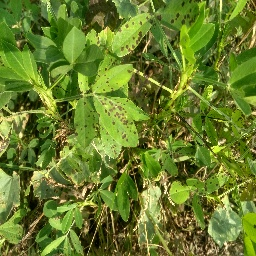GroundNut_Leaf: (90, 94, 140, 148), (154, 1, 192, 54), (112, 13, 152, 59), (3, 41, 36, 87), (91, 63, 135, 94), (230, 57, 256, 109), (211, 204, 241, 247), (63, 28, 86, 66), (1, 172, 20, 214), (75, 95, 88, 148), (40, 22, 58, 60), (88, 30, 110, 61), (194, 22, 215, 52), (116, 182, 130, 221), (192, 66, 219, 86), (170, 182, 191, 205), (160, 152, 178, 177), (1, 13, 18, 39), (1, 223, 22, 244), (197, 147, 212, 167), (41, 201, 58, 216), (26, 145, 37, 165)
